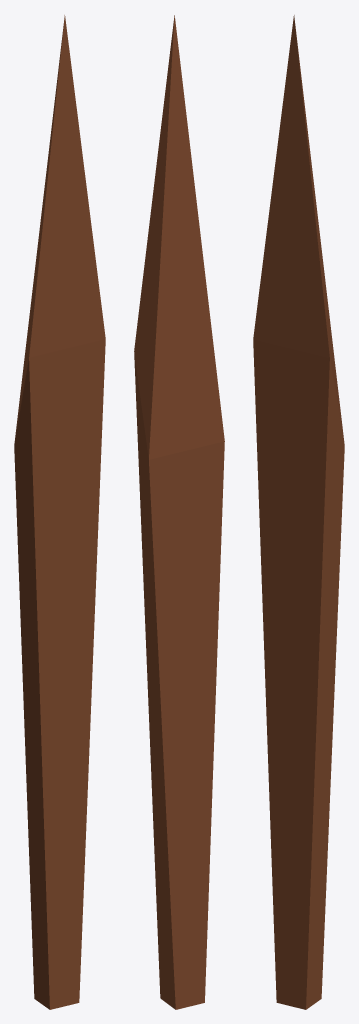
The model's file is Crossbow_Projectile.FBX.
3 views of the same model, side by side, from view 1: azimuth 30°, elevation 25°; view 2: azimuth 210°, elevation 25°; view 3: azimuth 330°, elevation 25° (orthographic).
Visible parts, largest first — view 1: SM_Crossbow_Humans001; view 2: SM_Crossbow_Humans001; view 3: SM_Crossbow_Humans001.
Boxes of the visible parts, <box> form: SM_Crossbow_Humans001: <box>14,15,105,1009</box>; SM_Crossbow_Humans001: <box>134,15,224,1009</box>; SM_Crossbow_Humans001: <box>253,15,344,1009</box>.
Size of the model in its own units: 4.34 by 53.63 by 1.65.
